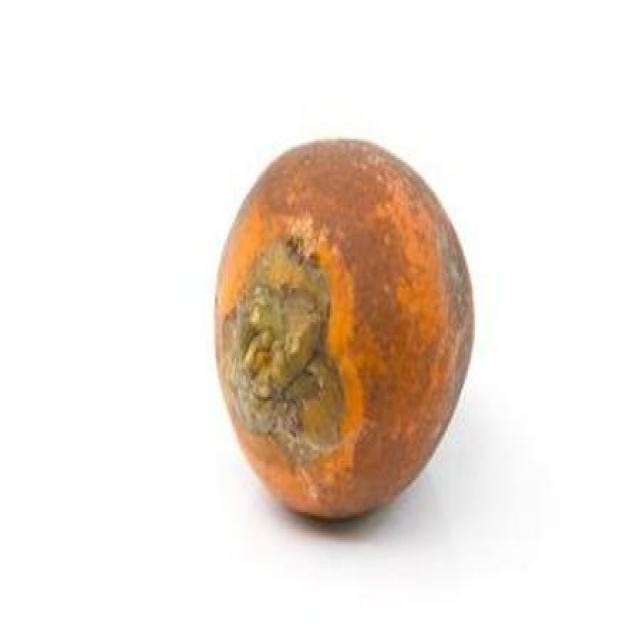good: (216, 141, 472, 514)
